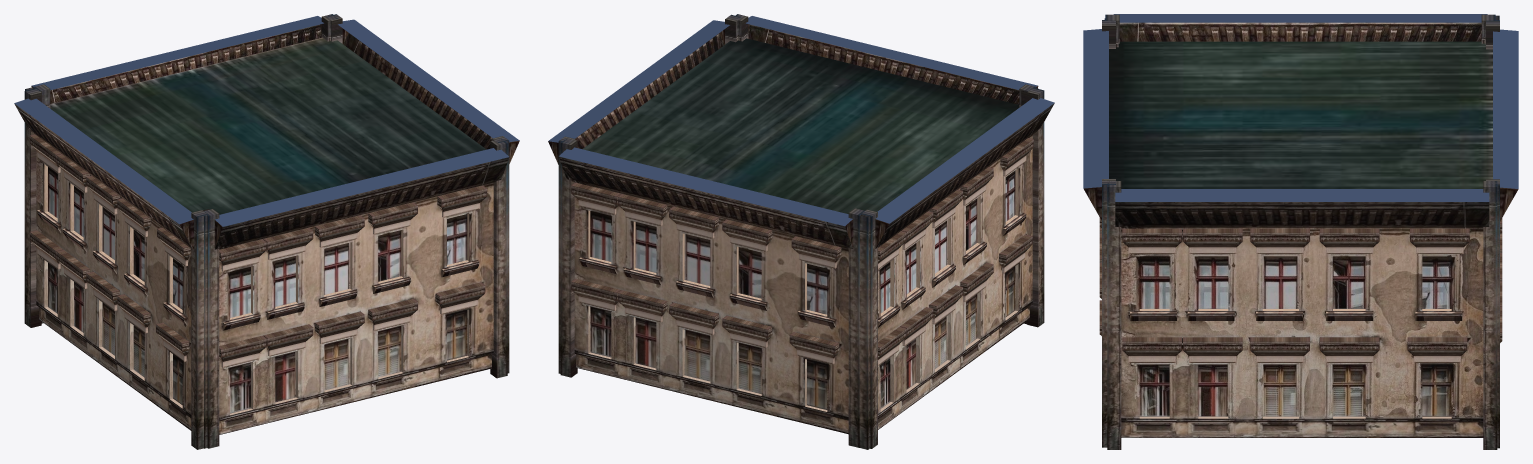
3 views of the same model, side by side, from view 1: azimuth 30°, elevation 25°; view 2: azimuth 150°, elevation 25°; view 3: azimuth 270°, elevation 25° (orthographic). The views are drawn at different scales.
Visible parts, largest first — view 1: Plane.031; view 2: Plane.031; view 3: Plane.031.
Boxes of the visible parts, bbox=[...] form: Plane.031: bbox=[14, 14, 519, 449]; Plane.031: bbox=[548, 14, 1054, 449]; Plane.031: bbox=[1083, 14, 1518, 449].
Size of the model in its own units: 2.62 by 1.71 by 2.56.
Materials: 2 (2 with a texture image).
